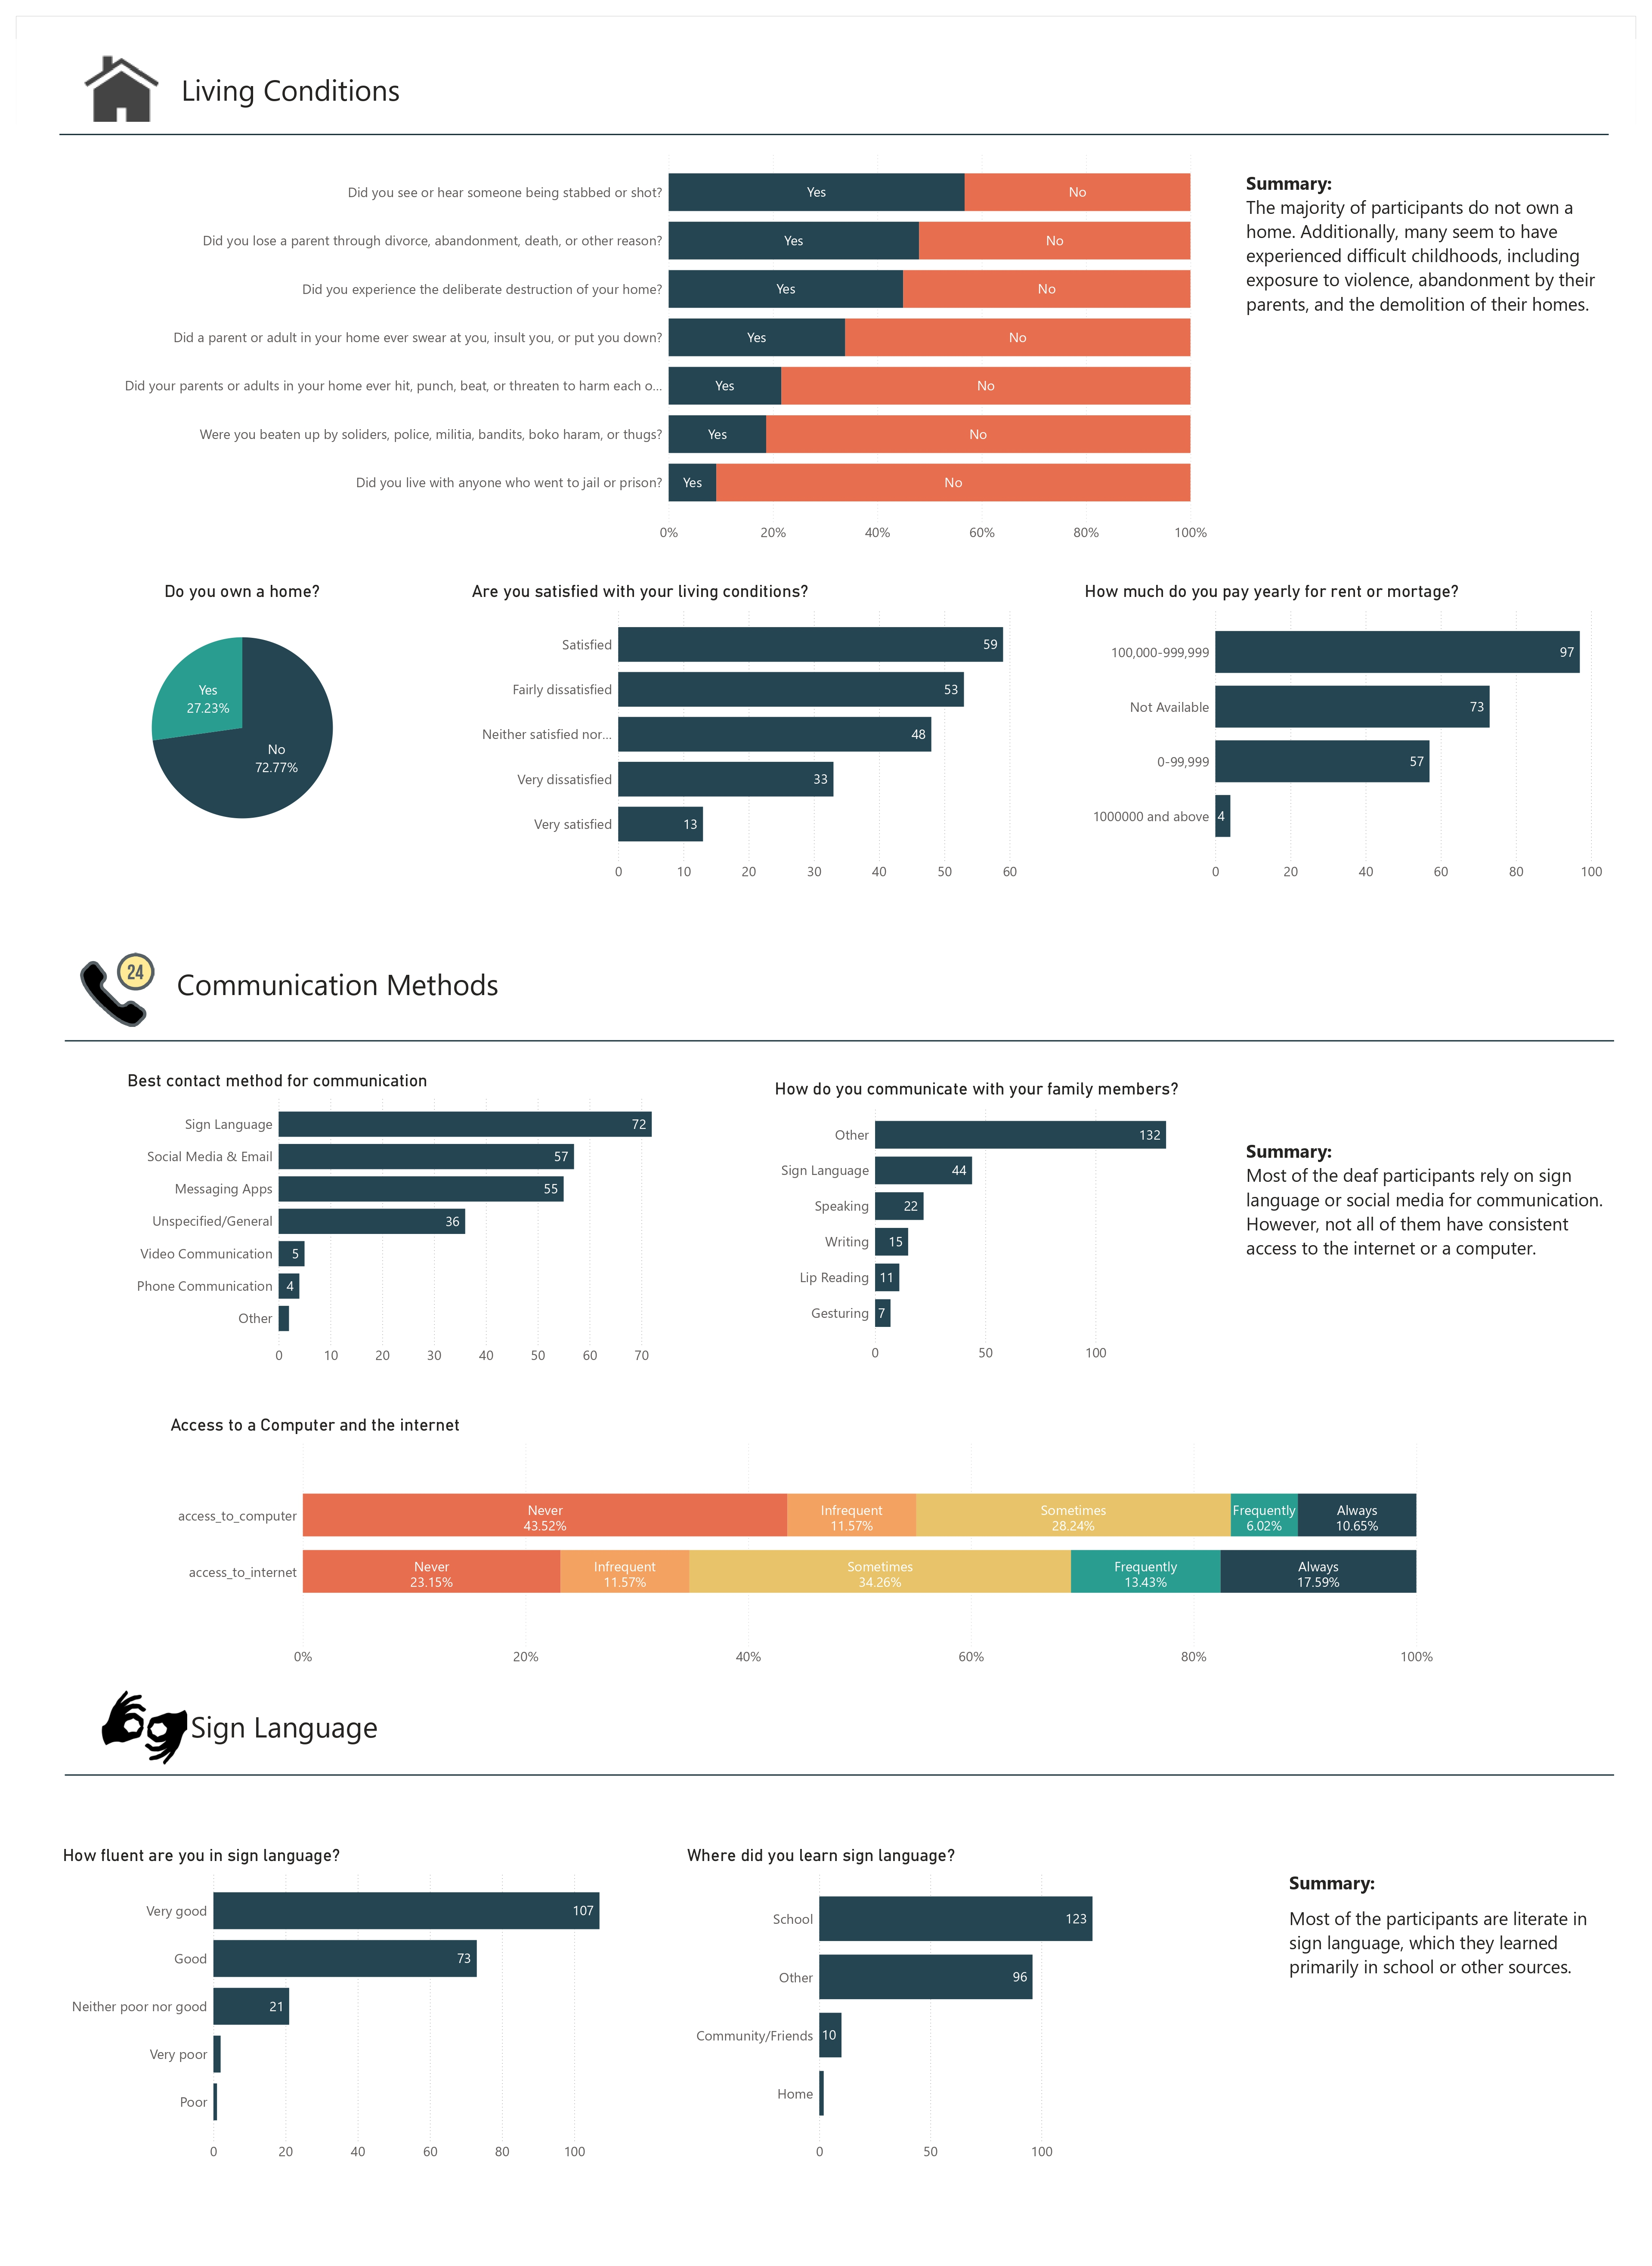

The dashboard page shown, as its layout file describes it:
{"tool":"powerbi","page":{"name":"Adverse_Living","canvas":[2408,3322],"ordinal":2},"visuals":[{"type":"hundredPercentStackedBarChart","fields":{"Category":["vsfg_gdri int_adverse_childhood_experience_yesno.Question"],"Series":["vsfg_gdri int_adverse_childhood_experience_yesno.Response"],"Y":["CountNonNull(vsfg_gdri int_adverse_childhood_experience_yesno.Response)"]},"box":[144,192,1632,600],"z":0},{"type":"pieChart","title":"Do you own a home?","fields":{"Category":["vsfg_gdri int_housing_and_living_conditions.own_house"],"Y":["CountNonNull(vsfg_gdri int_housing_and_living_conditions.own_house)"]},"box":[72,840,528,408],"z":1000},{"type":"barChart","title":"Are you satisfied with your living conditions?","fields":{"Category":["vsfg_gdri int_housing_and_living_conditions.satisfaction_with_living_conditions"],"Y":["CountNonNull(vsfg_gdri int_housing_and_living_conditions.satisfaction_with_living_conditions)"]},"box":[672,840,840,456],"z":2000},{"type":"barChart","title":"How much do you pay yearly for rent or mortage?","fields":{"Category":["vsfg_gdri int_housing_and_living_conditions.yearly_rent_or_mortgage"],"Y":["CountNonNull(vsfg_gdri int_housing_and_living_conditions.yearly_rent_or_mortgage)"]},"box":[1584,840,792,456],"z":3000},{"type":"barChart","title":"Best contact method for communication","fields":{"Category":["vsfg_gdri int_language_and_communication.best_contact_method"],"Y":["CountNonNull(vsfg_gdri int_language_and_communication.best_contact_method)"]},"box":[160,1568,832,448],"z":4000},{"type":"barChart","title":"How do you communicate with your family members?","fields":{"Category":["vsfg_gdri int_language_and_communication.communicate_with_family"],"Y":["CountNonNull(vsfg_gdri int_language_and_communication.communicate_with_family)"]},"box":[1122.5,1580,648,432],"z":5000},{"type":"barChart","title":"How fluent are you in sign language?","fields":{"Category":["vsfg_gdri int_language_and_communication.fluency_in_sign_language"],"Y":["CountNonNull(vsfg_gdri int_language_and_communication.fluency_in_sign_language)"]},"box":[64,2720,864,480],"z":6000},{"type":"barChart","title":"Where did you learn sign language?","fields":{"Category":["vsfg_gdri int_language_and_communication.where_learned_sign_language"],"Y":["CountNonNull(vsfg_gdri int_language_and_communication.where_learned_sign_language)"]},"box":[992,2720,672,480],"z":7000},{"type":"hundredPercentStackedBarChart","title":"Access to a Computer and the internet","fields":{"Category":["vsfg_gdri int_technology_and_accessibility_comp_int.Attribute"],"Series":["vsfg_gdri int_technology_and_accessibility_comp_int.Value"],"Y":["CountNonNull(vsfg_gdri int_technology_and_accessibility_comp_int.Value)"]},"box":[224,2080,1888,384],"z":8000},{"type":"shape","box":[64,64,2304,224],"z":9000},{"type":"image","box":[96,48,120,120],"z":10000},{"type":"textbox","box":[240,24,384,144],"z":11000},{"type":"image","box":[66.5,1388,168,120],"z":12000},{"type":"textbox","box":[234.5,1388,528,120],"z":13000},{"type":"image","box":[0,2472,384,144],"z":14000},{"type":"shape","box":[72,1416,2304,216],"z":15000},{"type":"shape","box":[72,2568,2304,96],"z":16000},{"type":"textbox","box":[254.3,2492.3,384,120],"z":17000},{"type":"textbox","box":[68,2036,150,384],"z":18000},{"type":"textbox","box":[1824,224,560,240],"z":19000},{"type":"textbox","box":[1824,1664,560,224],"z":20000},{"type":"textbox","box":[1888,2752,480,224],"z":21000}]}

Visuals, with their boxes in screenshot pixels (x1, y1, x2, y2):
hundredPercentStackedBarChart - vsfg_gdri int_adverse_childhood_experience_yesno.Question x vsfg_gdri int_adverse_childhood_experience_yesno.Response: (left=113, top=145, right=1211, bottom=549)
"Do you own a home?" pieChart: (left=65, top=581, right=420, bottom=855)
"Are you satisfied with your living conditions?" barChart: (left=468, top=581, right=1033, bottom=887)
"How much do you pay yearly for rent or mortage?" barChart: (left=1082, top=581, right=1614, bottom=887)
"Best contact method for communication" barChart: (left=124, top=1070, right=684, bottom=1372)
"How do you communicate with your family members?" barChart: (left=771, top=1079, right=1207, bottom=1369)
"How fluent are you in sign language?" barChart: (left=59, top=1845, right=640, bottom=2168)
"Where did you learn sign language?" barChart: (left=684, top=1845, right=1135, bottom=2168)
"Access to a Computer and the internet" hundredPercentStackedBarChart: (left=167, top=1415, right=1437, bottom=1673)
shape: (left=59, top=59, right=1609, bottom=210)
image: (left=81, top=48, right=161, bottom=129)
textbox: (left=178, top=32, right=436, bottom=129)
image: (left=61, top=949, right=174, bottom=1030)
textbox: (left=174, top=949, right=529, bottom=1030)
image: (left=16, top=1679, right=275, bottom=1775)
shape: (left=65, top=968, right=1614, bottom=1113)
shape: (left=65, top=1743, right=1614, bottom=1808)
textbox: (left=187, top=1692, right=445, bottom=1773)
textbox: (left=62, top=1385, right=163, bottom=1643)
textbox: (left=1243, top=167, right=1620, bottom=328)
textbox: (left=1243, top=1135, right=1620, bottom=1286)
textbox: (left=1286, top=1867, right=1609, bottom=2017)
